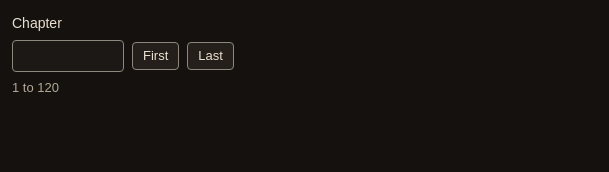
Scenario: UnitNumberPicker: typing a number › picks nothing for a number above the units of the work and shows an error linked to the field
The image size is (609, 172).
Type "121" into the field labelled "Chapter".
click(68, 56); type("121")  # box [12,40,124,72]
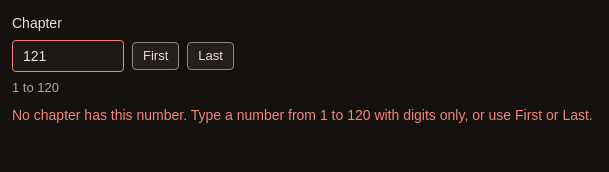
expect the field labelled "Chapter" is marked as invalid: met, box [12,40,124,72]
